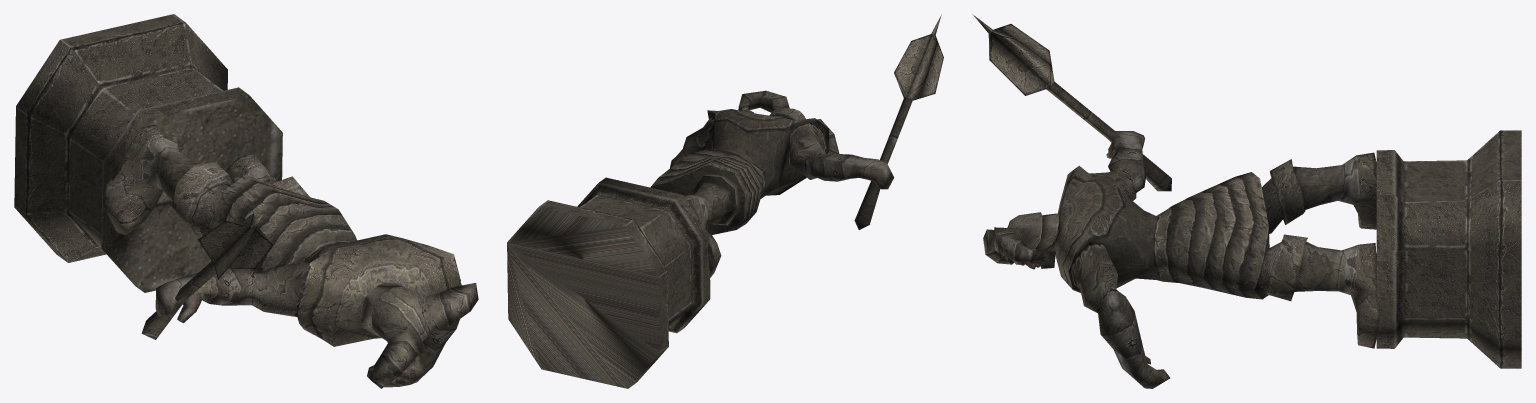
The model's file is statue-Warrior-01.obj.
The picture shows the model from 3 angles, left to right: view 1: azimuth 30°, elevation 25°; view 2: azimuth 150°, elevation 25°; view 3: azimuth 270°, elevation 25°; orthographic projection. The views are drawn at different scales.
Parts seen in each view (by area): view 1: (null); view 2: (null); view 3: (null).
Boxes of the visible parts, x1,y1,x2,y2 form: (null): (14, 14, 478, 388); (null): (507, 14, 943, 388); (null): (972, 14, 1521, 388).
Size of the model in its own units: 2.97 by 2.89 by 5.33.
